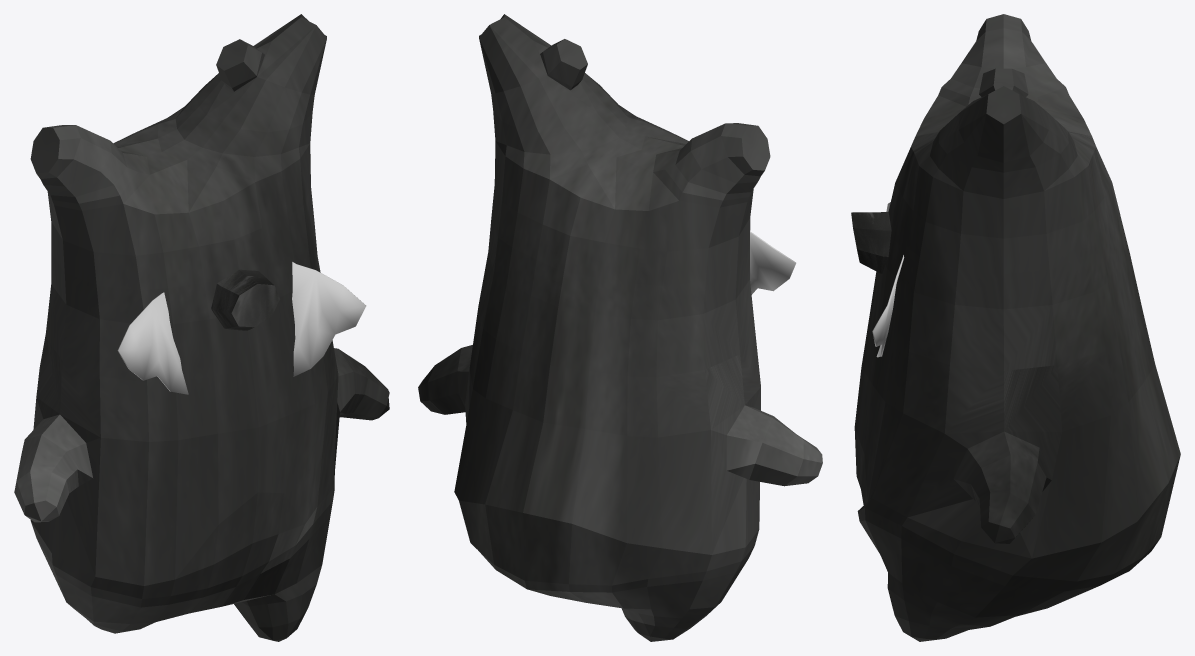
The model's file is frame_0001.obj.
3 views of the same model, side by side, from view 1: azimuth 30°, elevation 25°; view 2: azimuth 150°, elevation 25°; view 3: azimuth 270°, elevation 25° (orthographic). The views are drawn at different scales.
Parts seen in each view (by area): view 1: korok, leaf, nose; view 2: korok, leaf; view 3: korok, nose, leaf.
Part boxes in pixels (x1,y1,x2,y2): korok: (14,14,389,641); leaf: (117,262,366,394); nose: (211,269,279,330); korok: (418,14,822,641); leaf: (750,231,796,294); korok: (854,14,1180,641); nose: (851,211,891,273); leaf: (872,202,904,357).
Bounding box in the file's own units: 1.62 × 2.34 × 1.19.
